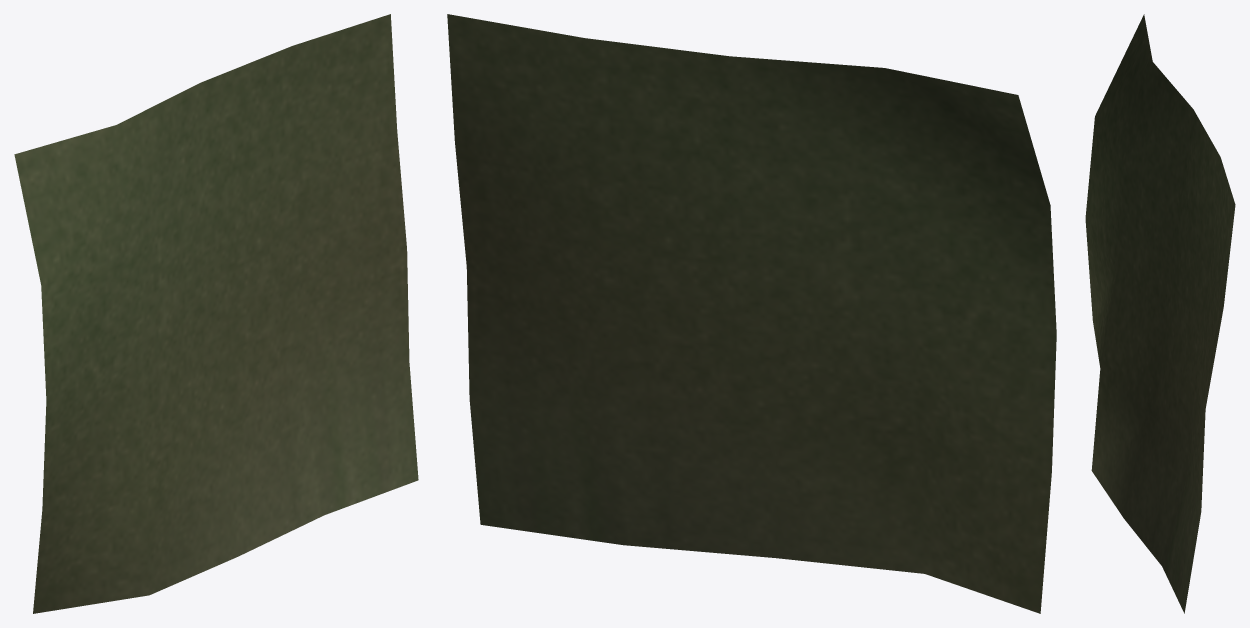
Rendered from terrain_far_02_04.obj.
The picture shows the model from 3 angles, left to right: view 1: azimuth 30°, elevation 25°; view 2: azimuth 150°, elevation 25°; view 3: azimuth 270°, elevation 25°; orthographic projection. The views are drawn at different scales.
Parts seen in each view (by area): view 1: terrain_far_02_04; view 2: terrain_far_02_04; view 3: terrain_far_02_04.
Part boxes in pixels (box(x1,y1,x2,y2)): terrain_far_02_04: box(14, 14, 418, 613); terrain_far_02_04: box(447, 14, 1056, 613); terrain_far_02_04: box(1085, 14, 1235, 613).
Size of the model in its own units: 288 by 288 by 95.69.
1 material, 1 textured.
